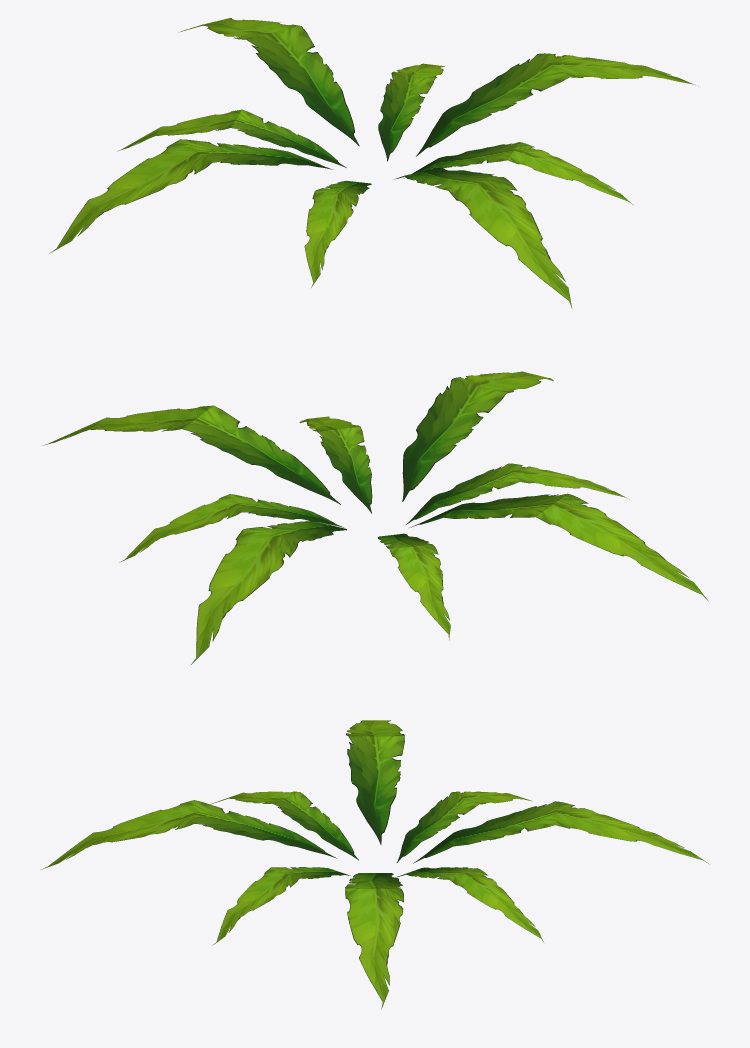
The model's file is Hemp_18.fbx.
The picture shows the model from 3 angles, top to bottom: view 1: azimuth 30°, elevation 25°; view 2: azimuth 150°, elevation 25°; view 3: azimuth 270°, elevation 25°; orthographic projection. The views are drawn at different scales.
Parts seen in each view (by area): view 1: Hemp_18; view 2: Hemp_18; view 3: Hemp_18.
Part boxes in pixels (x1=…): Hemp_18: x1=49, y1=18, x2=698, y2=308; Hemp_18: x1=43, y1=371, x2=708, y2=664; Hemp_18: x1=41, y1=720, x2=709, y2=1009.
Size of the model in its own units: 360 by 39.22 by 360.
